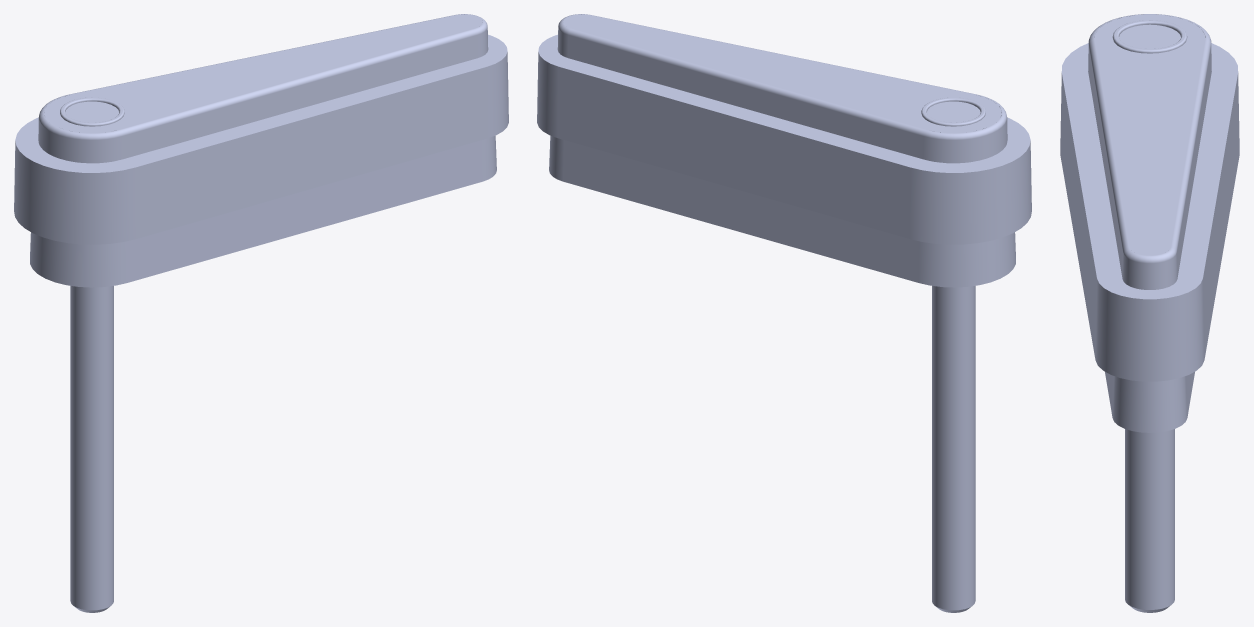
Rendered from Flipper Bat 3.0'.fbx.
3 renders of one model, left to right at view 1: azimuth 30°, elevation 25°; view 2: azimuth 150°, elevation 25°; view 3: azimuth 270°, elevation 25°, orthographic. The views are drawn at different scales.
Visible parts, largest first — view 1: Flipper Bat 3inch, Flipper Rubber 3inch, Flipper Shaft; view 2: Flipper Bat 3inch, Flipper Rubber 3inch, Flipper Shaft; view 3: Flipper Bat 3inch, Flipper Rubber 3inch, Flipper Shaft.
Part boxes in pixels (x1=…): Flipper Bat 3inch: x1=30, y1=14, x2=496, y2=287; Flipper Rubber 3inch: x1=14, y1=34, x2=508, y2=244; Flipper Shaft: x1=70, y1=286, x2=113, y2=612; Flipper Bat 3inch: x1=549, y1=14, x2=1015, y2=287; Flipper Rubber 3inch: x1=537, y1=34, x2=1031, y2=244; Flipper Shaft: x1=932, y1=286, x2=975, y2=612; Flipper Bat 3inch: x1=1088, y1=14, x2=1211, y2=432; Flipper Rubber 3inch: x1=1060, y1=43, x2=1239, y2=381; Flipper Shaft: x1=1125, y1=429, x2=1174, y2=612.
Bounding box in the file's own units: 8.04 × 7.96 × 2.27.
